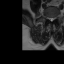CCS_severe_stenosis: (50, 16, 52, 23)
LFS_normal: (54, 15, 56, 21)
LLS_normal: (52, 16, 54, 22)
RFS_normal: (47, 15, 48, 21)
RLS_normal: (48, 16, 50, 22)
